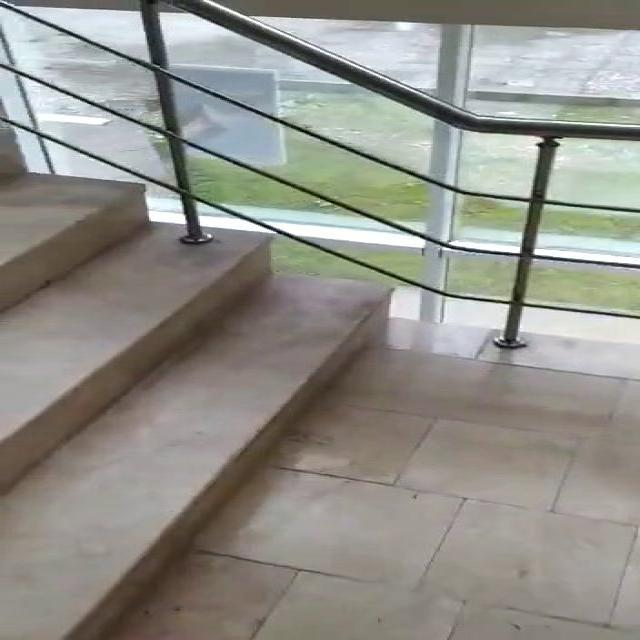stairs: (0, 123, 393, 639)
